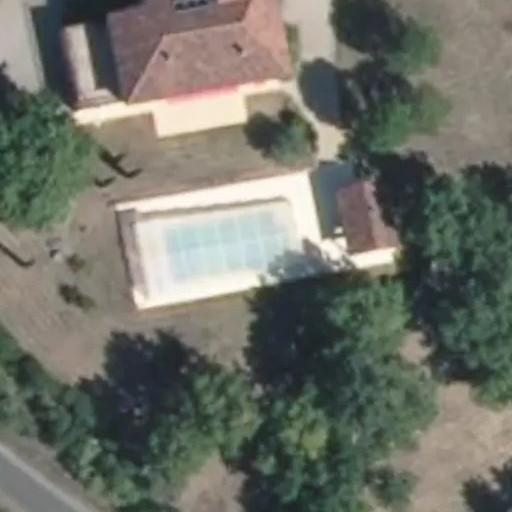pool: (189, 223, 327, 257)
